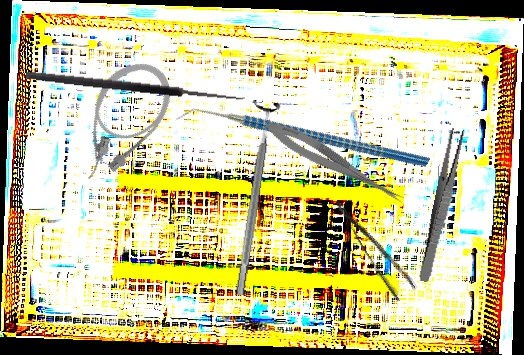Cannula: (52, 47, 187, 194)
Chopper: (174, 33, 431, 247)
Dressing Forceps: (332, 187, 419, 304), (417, 127, 467, 284)
Fixation Ring: (224, 99, 283, 298)
Hook Surgical: (25, 59, 247, 105)
Micro Scissor: (260, 114, 410, 209)
